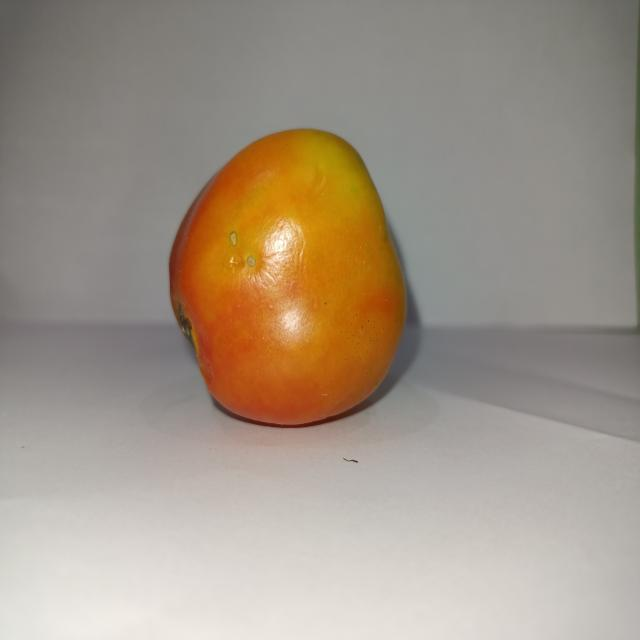Red: (167, 126, 408, 428)
